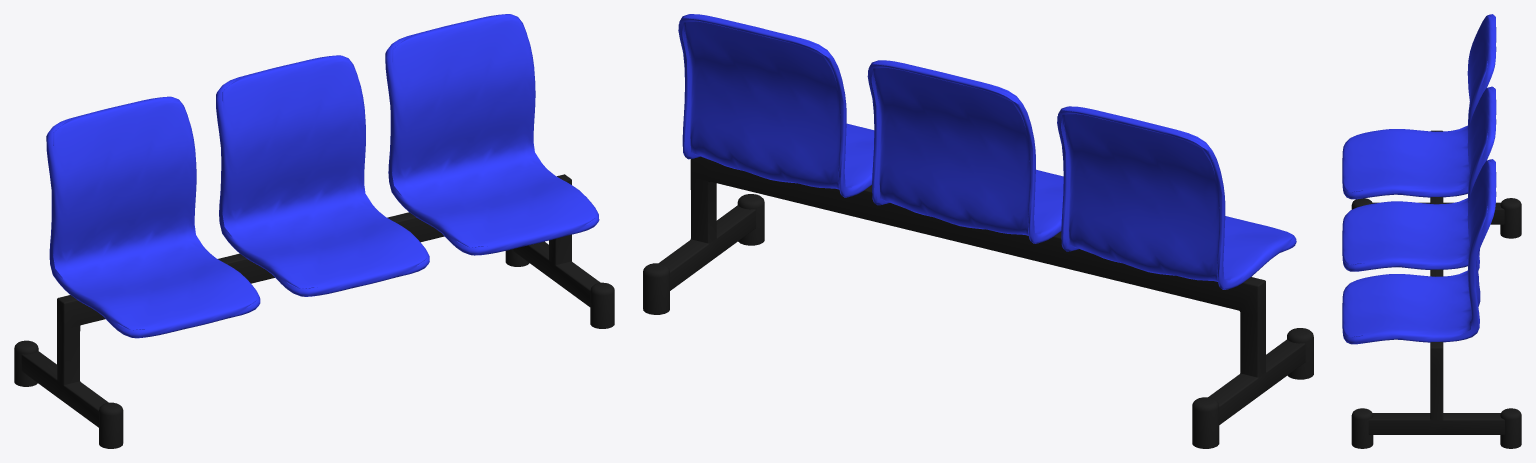
Rendered from Wachtstoelen.fbx.
The picture shows the model from 3 angles, left to right: view 1: azimuth 30°, elevation 25°; view 2: azimuth 150°, elevation 25°; view 3: azimuth 270°, elevation 25°; orthographic projection. The views are drawn at different scales.
Parts seen in each view (by area): view 1: Wachtstoelen_1; view 2: Wachtstoelen_1; view 3: Wachtstoelen_1.
Boxes of the visible parts, x1,y1,x2,y2 form: Wachtstoelen_1: (14,14,614,448); Wachtstoelen_1: (643,14,1313,448); Wachtstoelen_1: (1342,14,1521,448).
Bounding box in the file's own units: 242 × 119 × 83.75.
